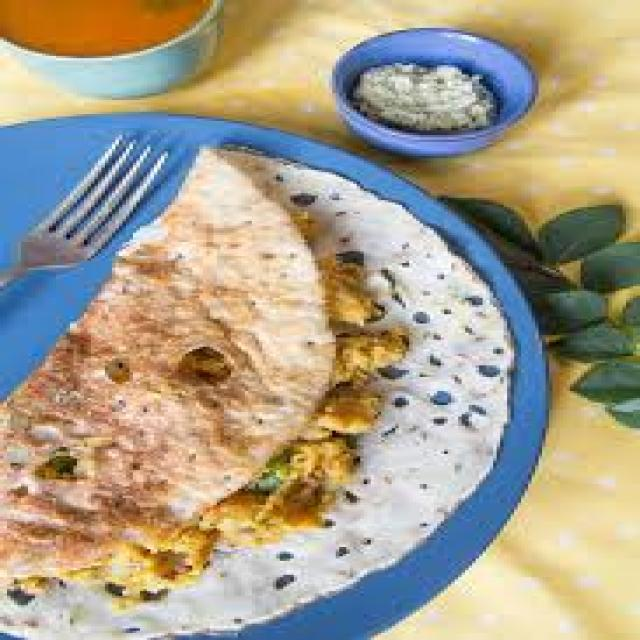DOSA: (0, 149, 515, 638)
